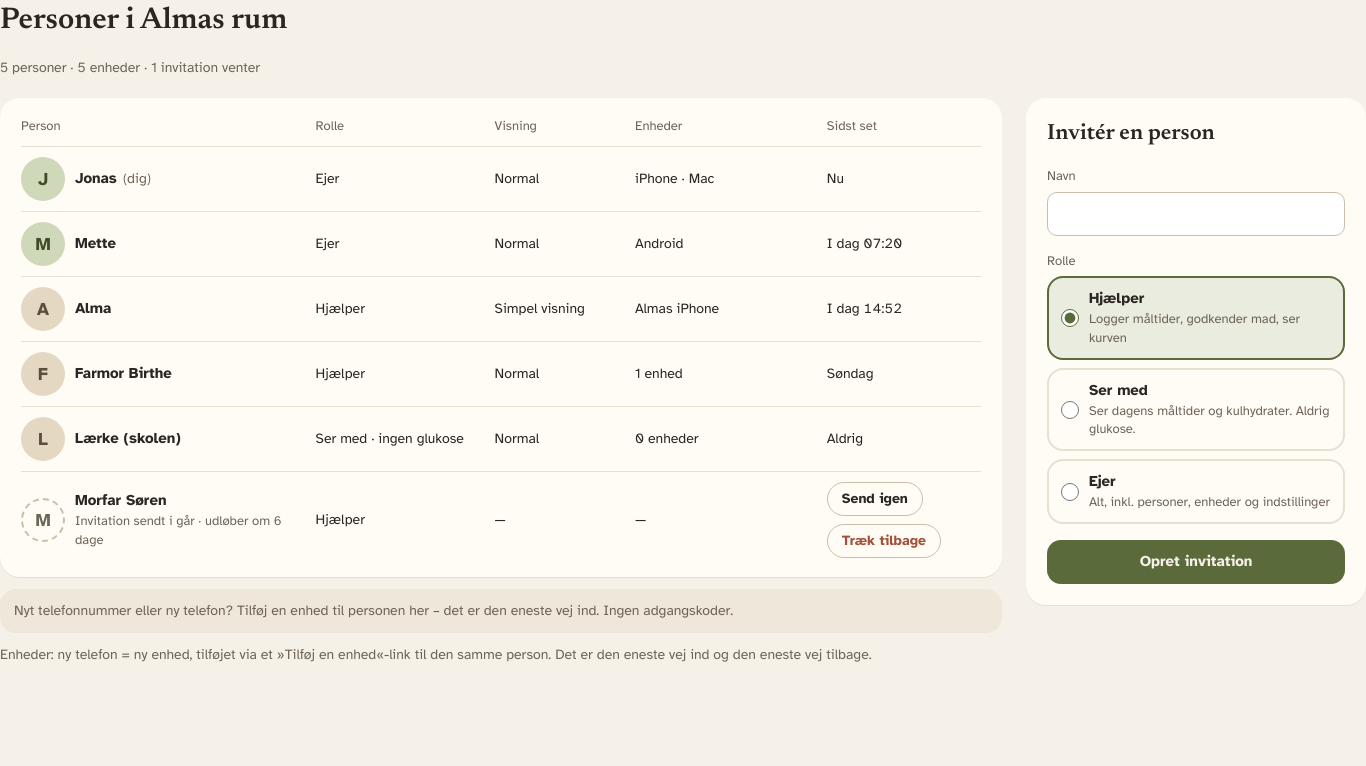
Test: PeopleScreen · a member's devices and role (design gap: phone detail) › takes the owner-only controls away as soon as an owner has stepped down
The width and height of the screenshot is (1366, 766).
Check: the element with test id "invite-panel" is shown, box left=1026, top=98, right=1365, bottom=605
Click the row with test id "member-row" that starts with "Jonas" at (501, 179), box left=21, top=147, right=981, bottom=212
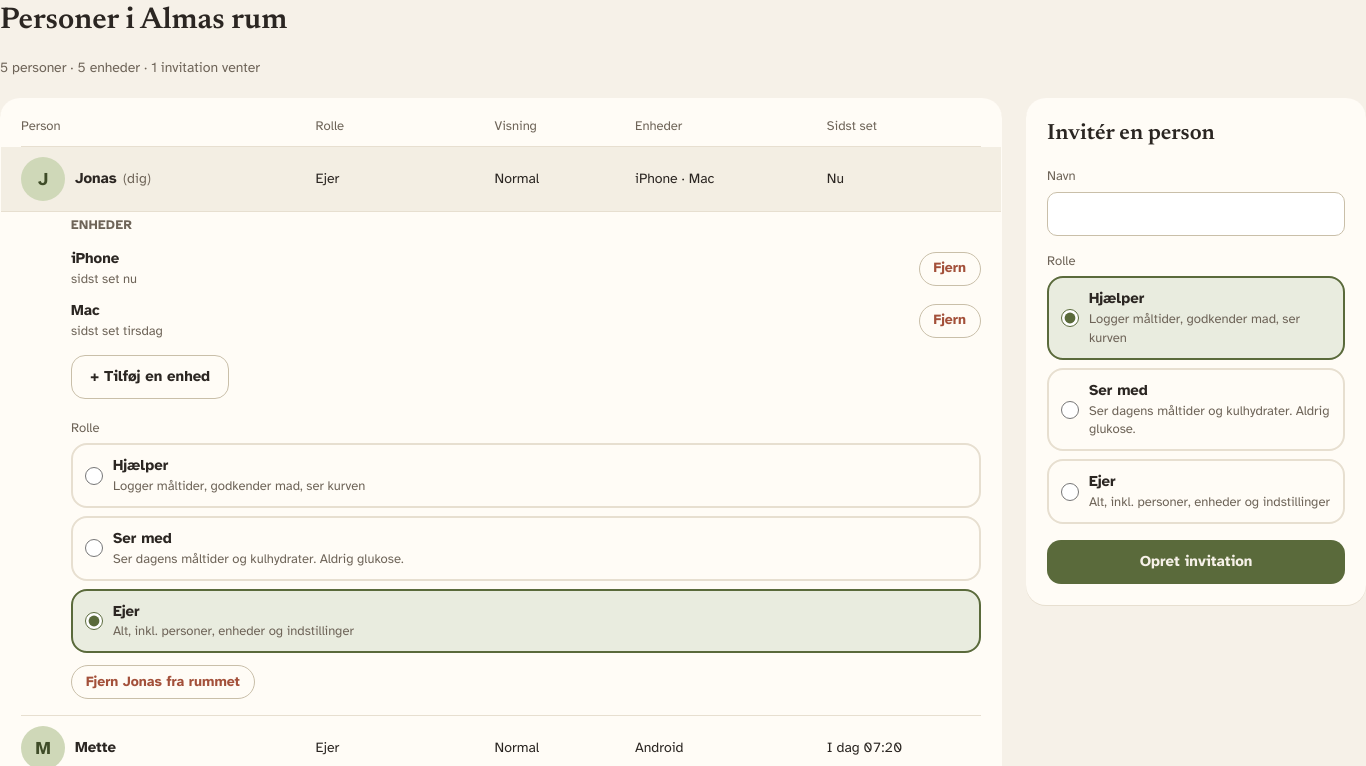
Click the radio button labelled "Hjælper Logger måltider, godkender mad, ser kurven" below "sidst set tirsdag" at (94, 476), box left=85, top=467, right=103, bottom=485
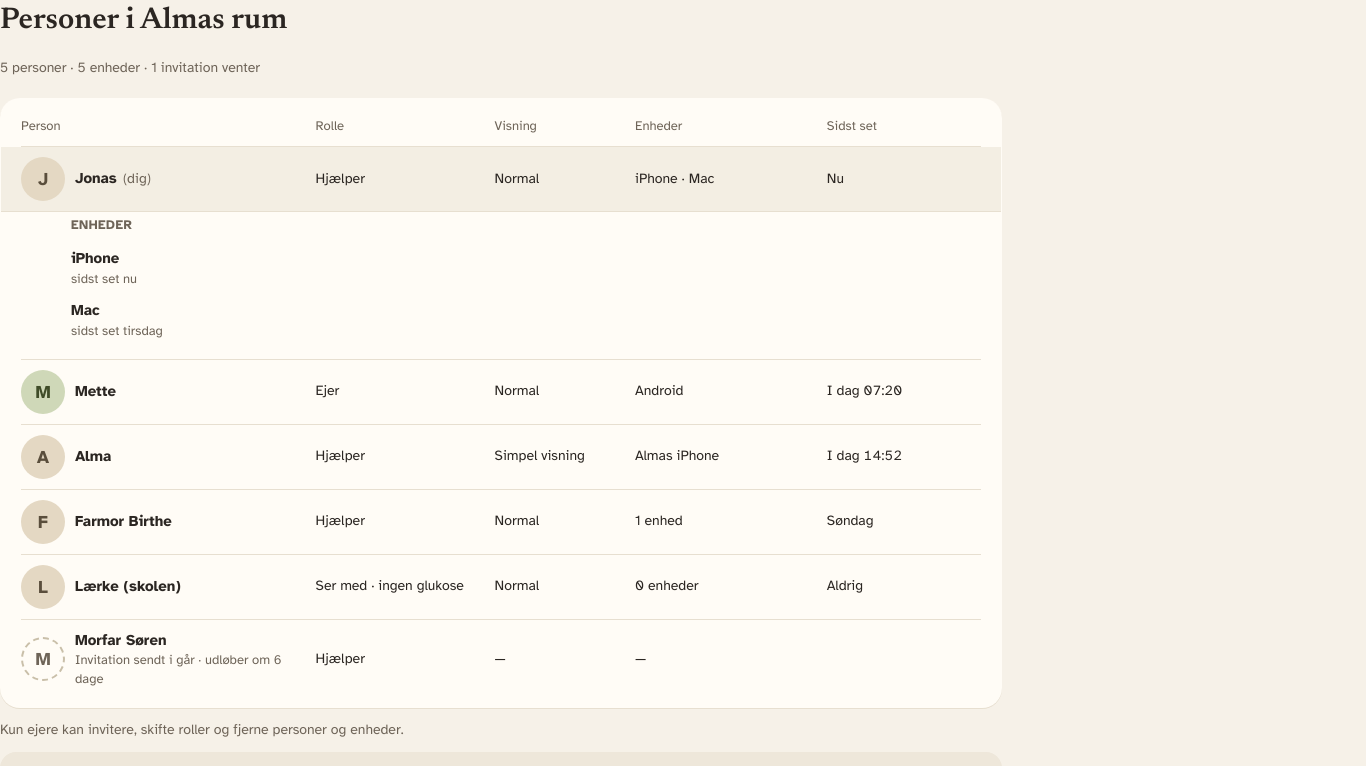
Check: the element with test id "invite-panel" is gone
Check: the text "Kun ejere kan invitere" is shown, box left=0, top=721, right=404, bottom=738
